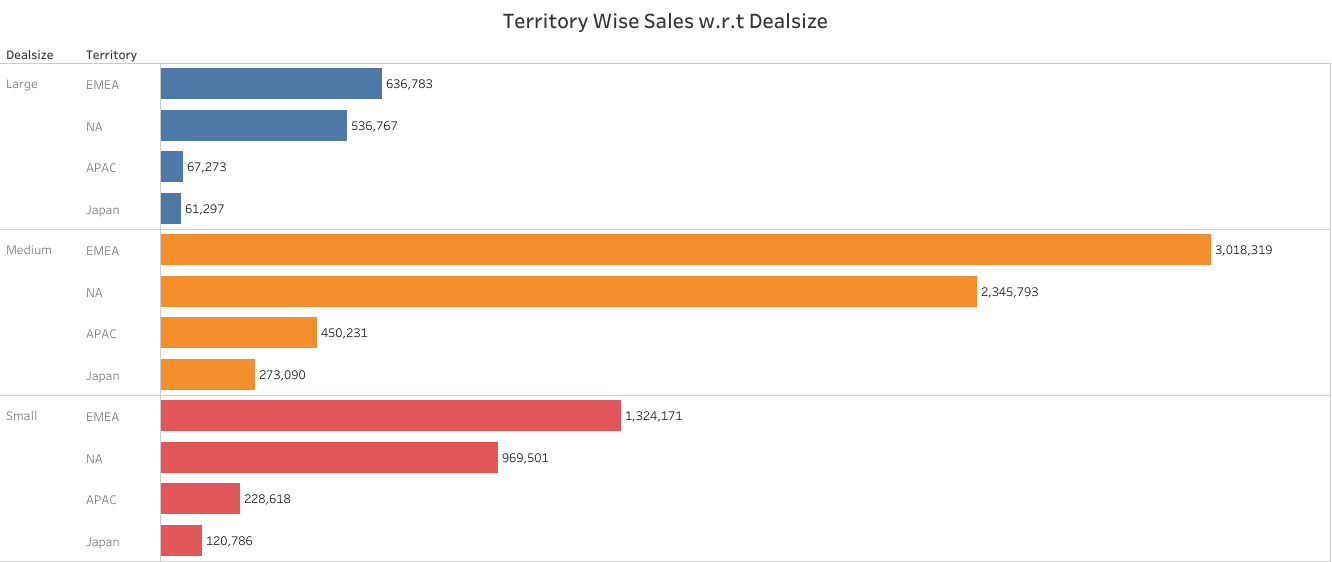

Layout of this report page (visuals, bound fields, positions):
{"tool":"powerbi","page":{"name":"Page 1","canvas":[1280,720],"ordinal":0},"visuals":[{"type":"barChart","fields":{"Category":["sales_data_sample.DEALSIZE"],"Series":["sales_data_sample.TERRITORY"],"Y":["Sum(sales_data_sample.SALES)"]},"box":[41.7,102,1195.7,589.2],"z":0},{"type":"textbox","box":[339.2,20.1,603.6,64.7],"z":1000}]}

Visuals, with their boxes on the page's 1280x720 design canvas (x1, y1, x2, y2). These are canvas units, not pixel positions in the 1332x562 screenshot, which may show the page scaled, cropped or inside an application window:
barChart - sales_data_sample.DEALSIZE x sales_data_sample.TERRITORY: locate(42, 102, 1237, 691)
textbox: locate(339, 20, 943, 85)
